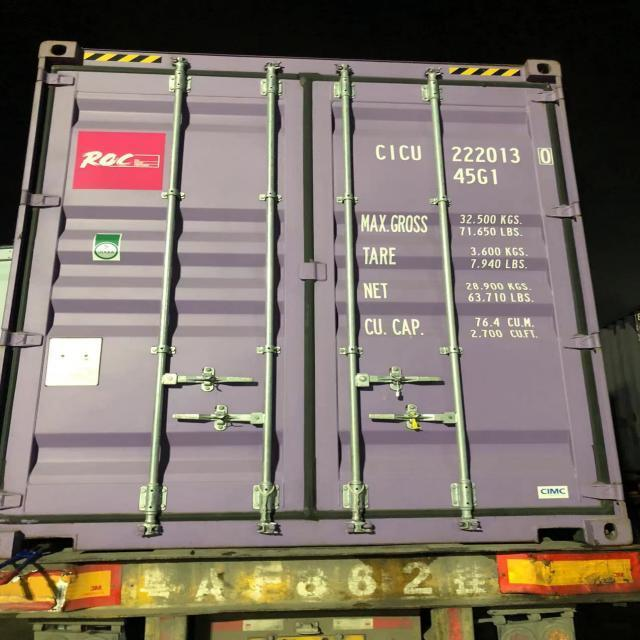ISO: (453, 167, 498, 186)
container_number: (376, 146, 558, 166)
